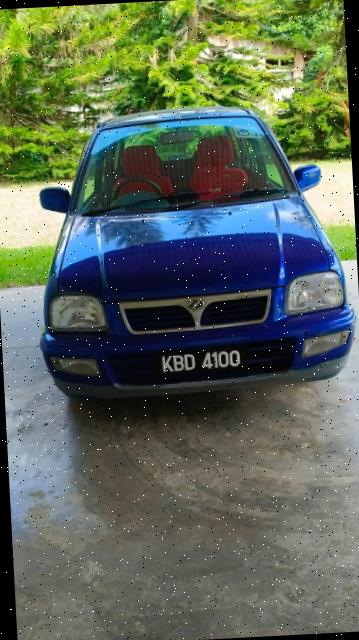License_Plate: (146, 343, 262, 393)
car: (32, 93, 356, 408)
